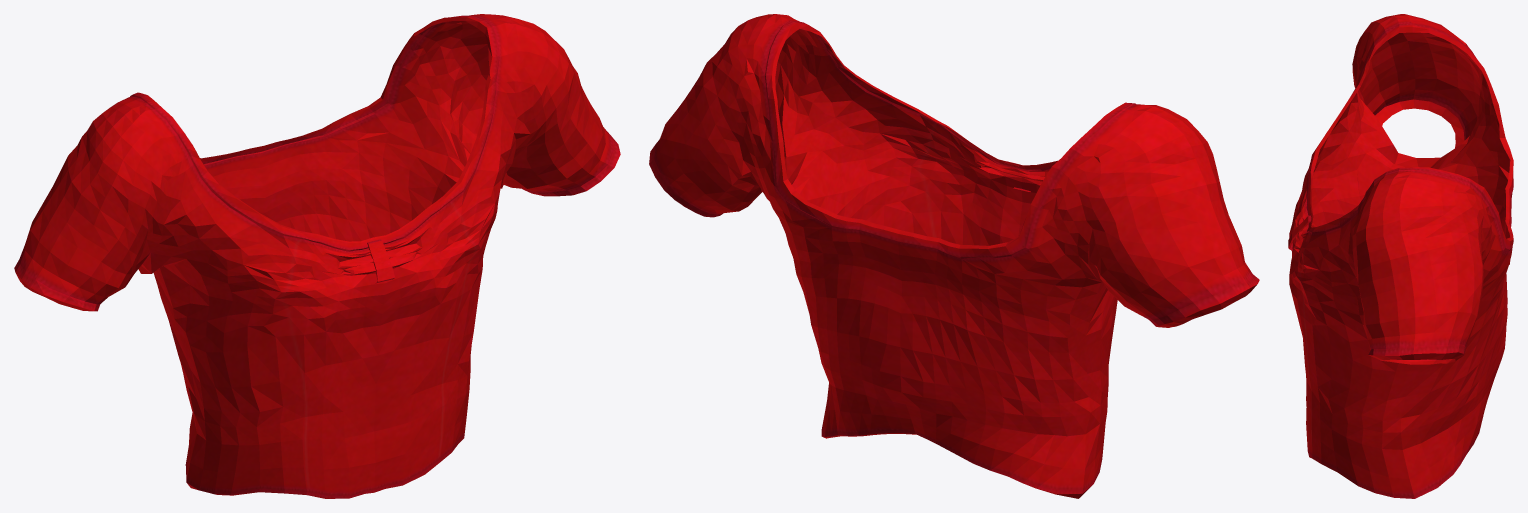
Rendered from mhw_punkduck_retro_top.glb.
The picture shows the model from 3 angles, left to right: view 1: azimuth 30°, elevation 25°; view 2: azimuth 150°, elevation 25°; view 3: azimuth 270°, elevation 25°; orthographic projection. The views are drawn at different scales.
Parts seen in each view (by area): view 1: mhw_punkduck_retro_top; view 2: mhw_punkduck_retro_top; view 3: mhw_punkduck_retro_top.
Part boxes in pixels (bbox=[...]): mhw_punkduck_retro_top: bbox=[14, 14, 620, 498]; mhw_punkduck_retro_top: bbox=[649, 14, 1259, 498]; mhw_punkduck_retro_top: bbox=[1288, 14, 1513, 498].
Bounding box in the file's own units: 0.6889 × 0.4441 × 0.2579.
1 material, 1 textured.
